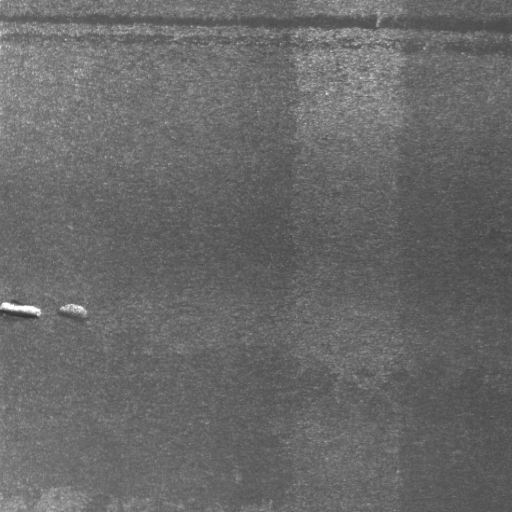aokeng: (1, 298, 42, 322), (56, 301, 94, 325)
